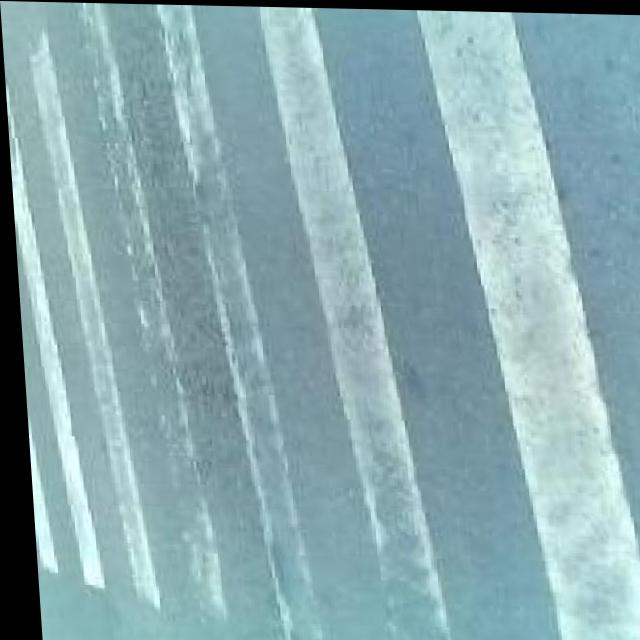zebra: (9, 0, 640, 603)
